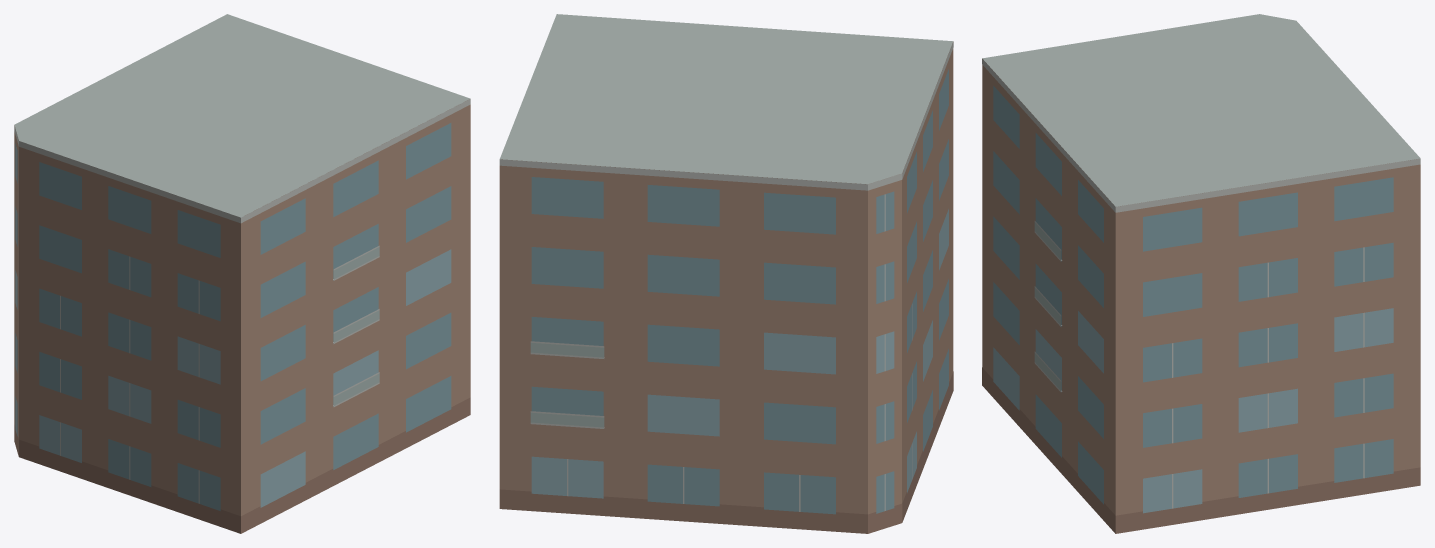
Rendered from survey-upis-32992883.glb.
3 renders of one model, left to right at view 1: azimuth 30°, elevation 25°; view 2: azimuth 150°, elevation 25°; view 3: azimuth 270°, elevation 25°, orthographic. The views are drawn at different scales.
Visible parts, largest first — view 1: survey-upis-32992883.tmp; view 2: survey-upis-32992883.tmp; view 3: survey-upis-32992883.tmp.
Part boxes in pixels (bbox=[...]): survey-upis-32992883.tmp: bbox=[14, 14, 470, 533]; survey-upis-32992883.tmp: bbox=[499, 14, 953, 533]; survey-upis-32992883.tmp: bbox=[982, 14, 1420, 533].
Bounding box in the file's own units: 16.82 × 13.3 × 16.17.
